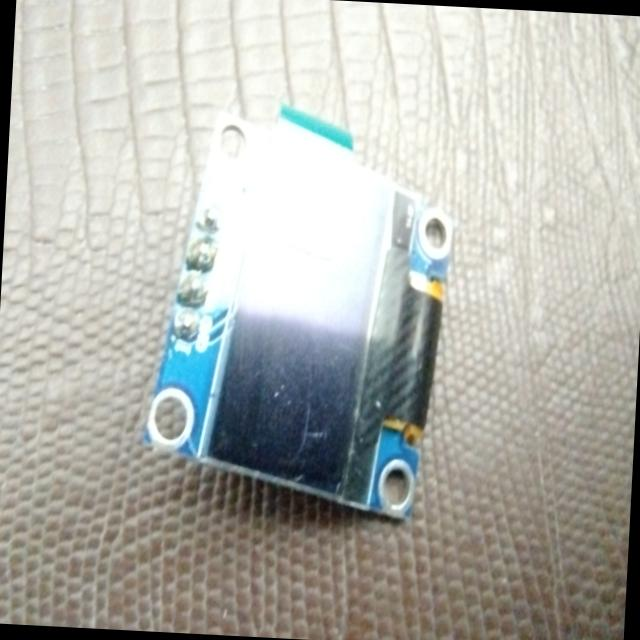oled: (137, 94, 455, 534)
